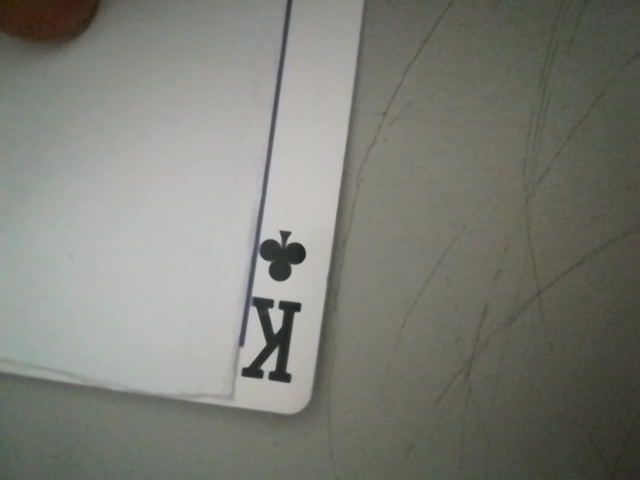mh k: (231, 220, 325, 401)
